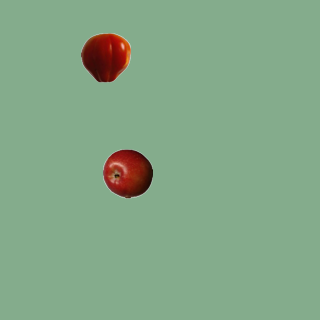Apple Braeburn: (102, 148, 152, 198)
Tomato 1: (80, 32, 130, 82)
